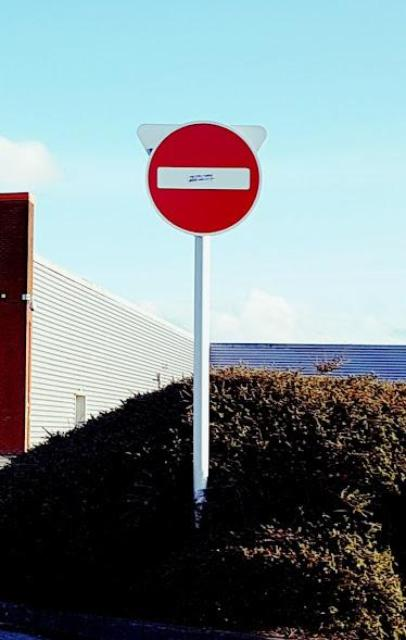B2: (141, 119, 265, 237)
